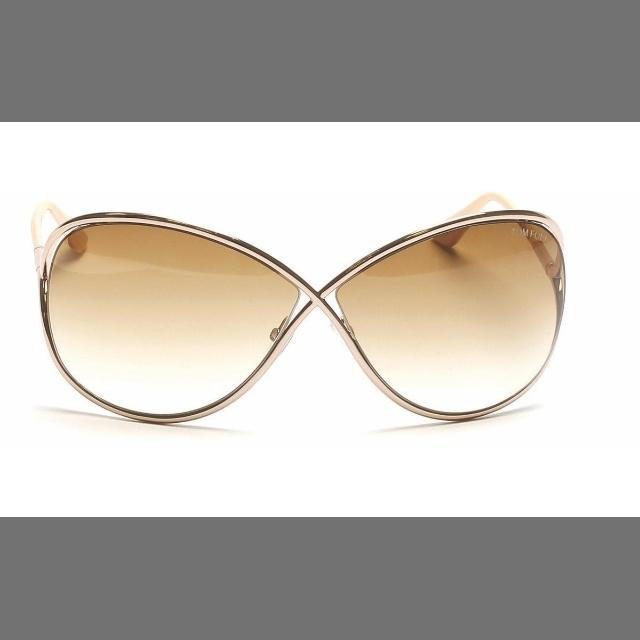Sunglasses: (14, 178, 610, 458)
